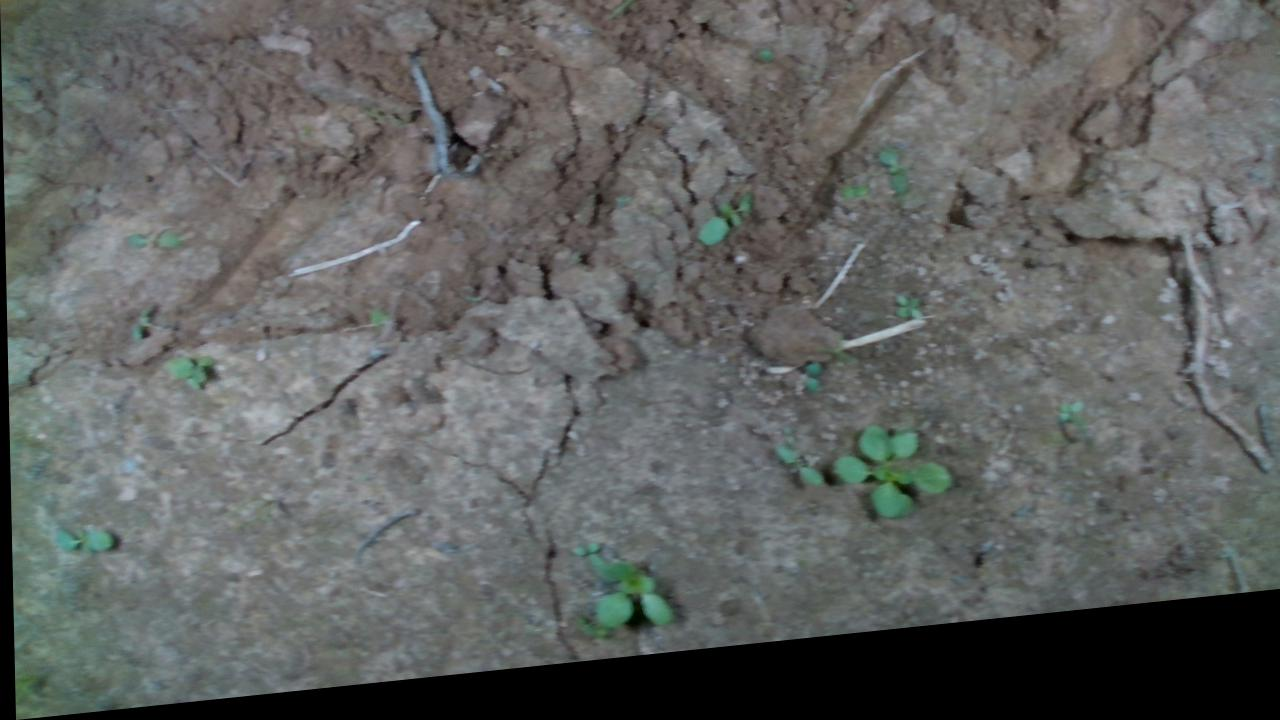weed: (691, 205, 753, 262), (771, 457, 820, 508), (49, 522, 112, 559), (875, 159, 909, 218), (891, 310, 920, 345), (833, 198, 869, 219), (1055, 421, 1082, 449), (799, 377, 819, 410)
